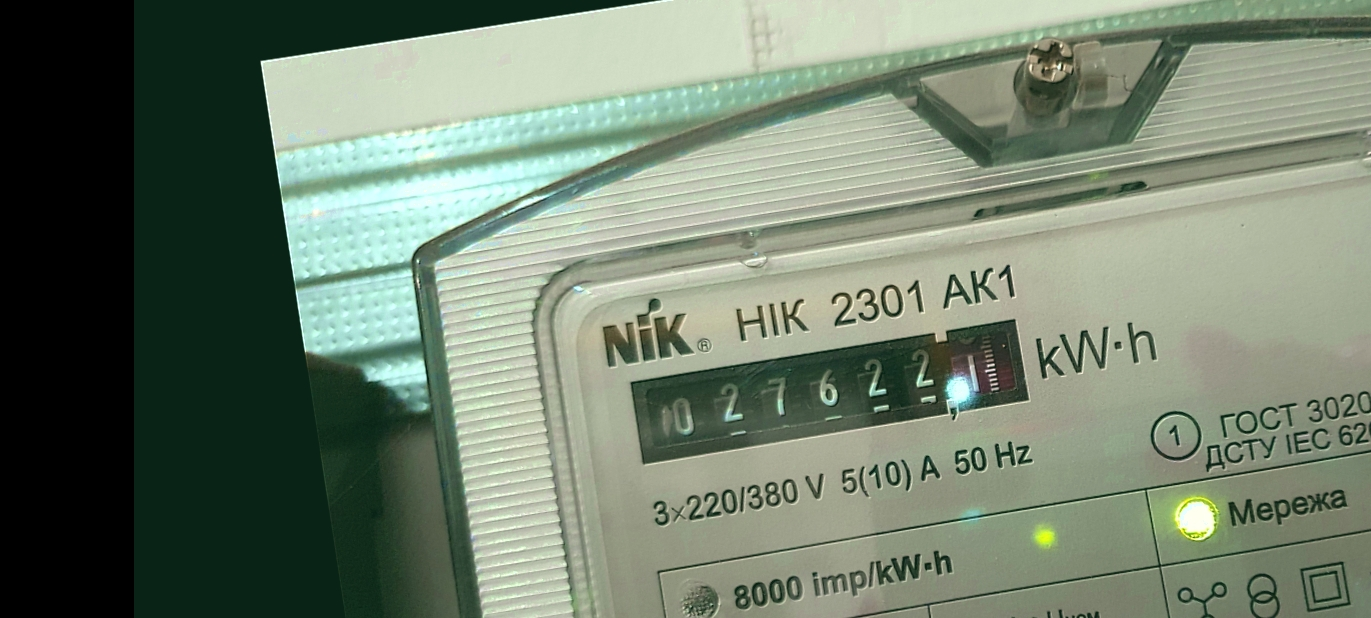0: (669, 392, 699, 438)
1: (963, 350, 985, 395)
2: (718, 379, 747, 425), (861, 355, 891, 399), (909, 345, 938, 389)
6: (815, 365, 842, 409)
7: (766, 374, 795, 420)
screen: (617, 307, 1045, 473)
